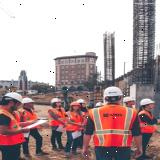Helmet: (2, 92, 23, 104), (103, 86, 123, 97), (138, 98, 156, 106), (20, 97, 34, 104), (122, 96, 136, 102), (51, 98, 63, 104), (69, 102, 81, 107), (76, 99, 86, 103), (95, 102, 105, 106)
Vest: (88, 103, 138, 147), (0, 108, 26, 146), (17, 107, 39, 129), (137, 109, 156, 133), (64, 110, 84, 131), (48, 107, 65, 126), (80, 109, 90, 125)
